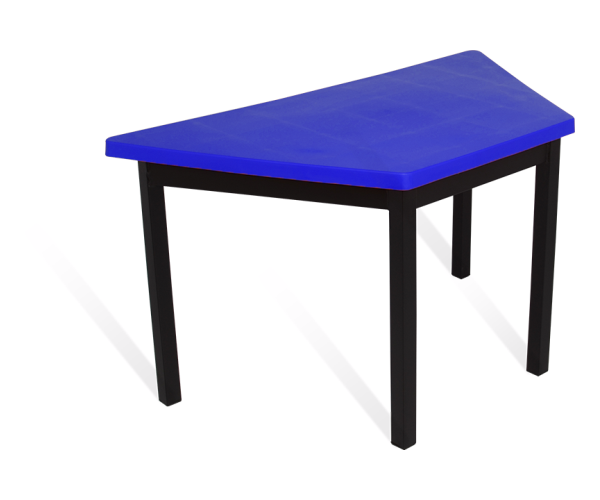m01: (105, 48, 575, 450)
